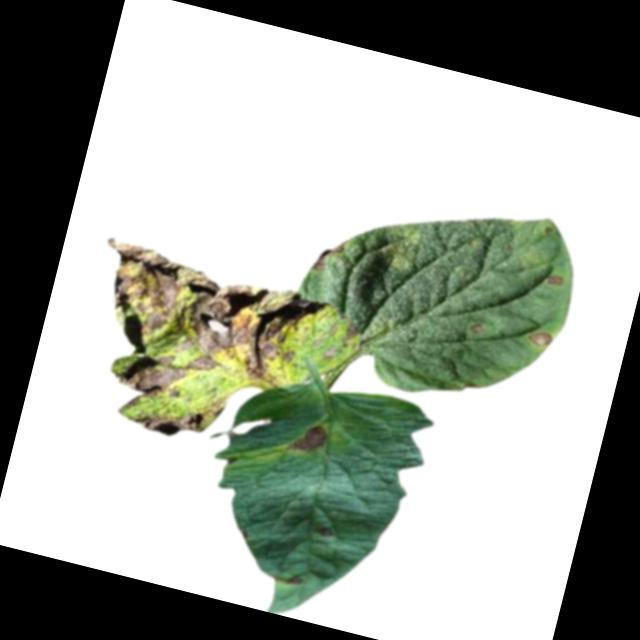Early_blight: (73, 235, 332, 430), (128, 393, 205, 443), (289, 417, 331, 459), (312, 234, 347, 275), (524, 324, 556, 353), (340, 318, 361, 345), (284, 570, 306, 590), (315, 523, 337, 540), (547, 272, 565, 287)
